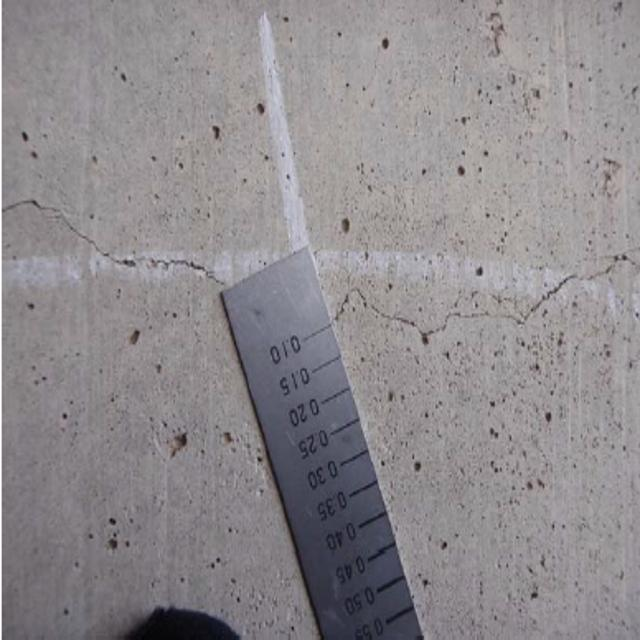crack: (311, 236, 640, 346), (7, 191, 227, 300)
